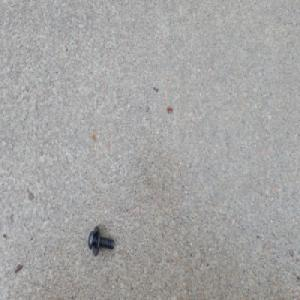BoltWasher: (88, 225, 115, 256)
